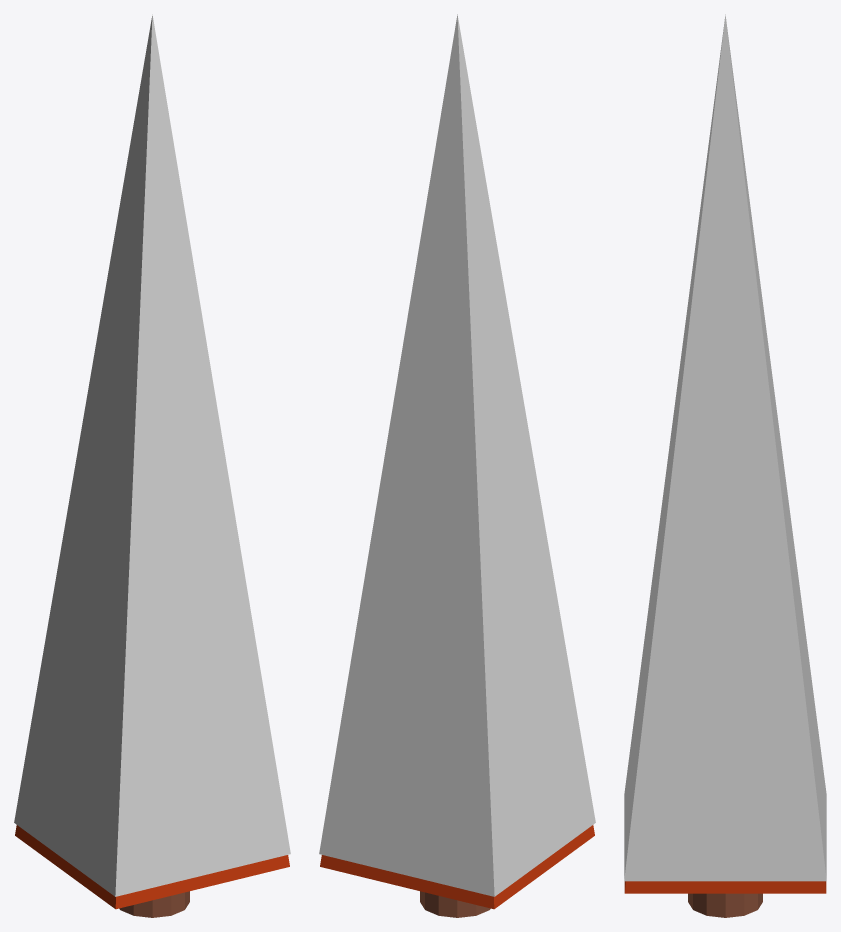
The model's file is Tree_19_winter_red.fbx.
3 views of the same model, side by side, from view 1: azimuth 30°, elevation 25°; view 2: azimuth 150°, elevation 25°; view 3: azimuth 270°, elevation 25° (orthographic).
Parts seen in each view (by area): view 1: Tree_19_winter_red; view 2: Tree_19_winter_red; view 3: Tree_19_winter_red.
Boxes of the visible parts, <box> form: Tree_19_winter_red: <box>14,14,290,917</box>; Tree_19_winter_red: <box>319,14,595,917</box>; Tree_19_winter_red: <box>624,14,826,917</box>.
Bounding box in the file's own units: 60.03 × 290 × 60.03.
